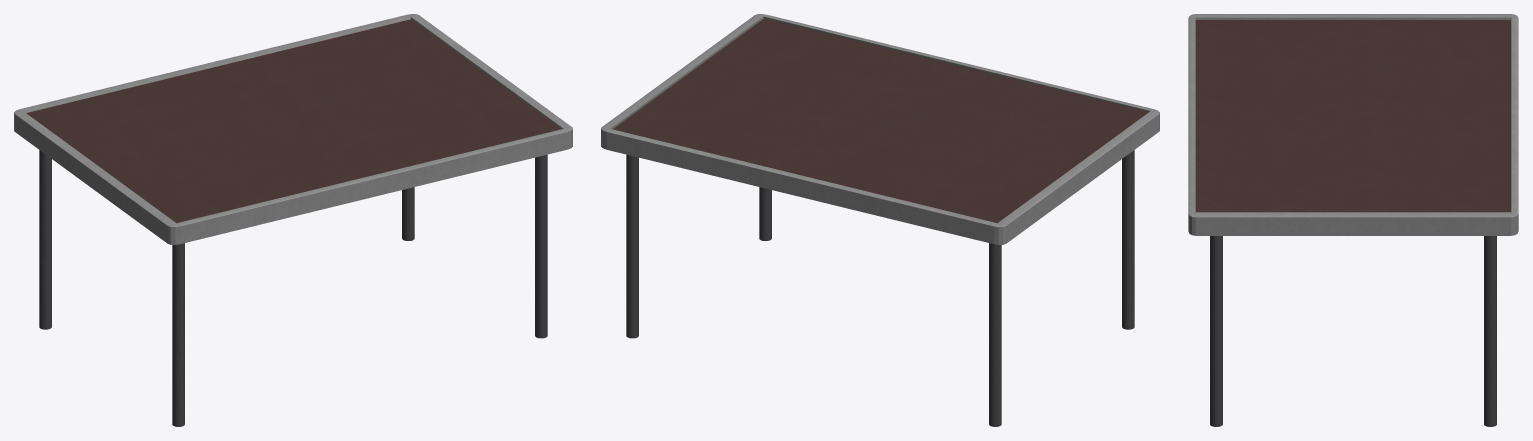
Rendered from desk.fbx.
3 renders of one model, left to right at view 1: azimuth 30°, elevation 25°; view 2: azimuth 150°, elevation 25°; view 3: azimuth 270°, elevation 25°, orthographic. The views are drawn at different scales.
Parts seen in each view (by area): view 1: Cube, Cylinder.001, Cylinder, Cylinder.003, Cylinder.002; view 2: Cube, Cylinder.002, Cylinder.003, Cylinder, Cylinder.001; view 3: Cube, Cylinder.001, Cylinder.002.
Boxes of the visible parts, x1=… form: Cube: x1=14, y1=14, x2=572, y2=244; Cylinder.001: x1=535, y1=154, x2=547, y2=338; Cylinder: x1=172, y1=243, x2=184, y2=426; Cylinder.003: x1=39, y1=150, x2=51, y2=329; Cylinder.002: x1=402, y1=187, x2=414, y2=240; Cube: x1=601, y1=14, x2=1159, y2=244; Cylinder.002: x1=626, y1=154, x2=638, y2=338; Cylinder.003: x1=989, y1=243, x2=1001, y2=426; Cylinder: x1=1122, y1=150, x2=1134, y2=329; Cylinder.001: x1=759, y1=187, x2=771, y2=240; Cube: x1=1188, y1=14, x2=1518, y2=235; Cylinder.001: x1=1210, y1=236, x2=1222, y2=426; Cylinder.002: x1=1484, y1=236, x2=1496, y2=426.
Bounding box in the file's own units: 147 × 73.54 × 101.
Materials: 3 (3 with a texture image).
